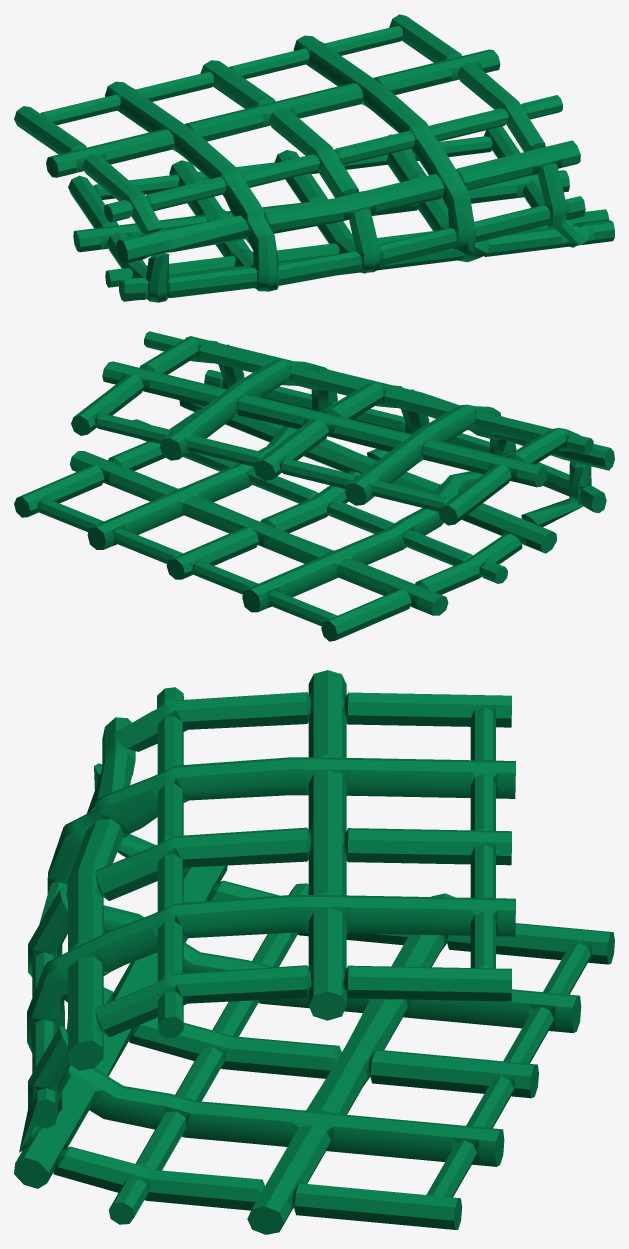
File: Gyomou.fbx
The picture shows the model from 3 angles, top to bottom: view 1: azimuth 30°, elevation 25°; view 2: azimuth 150°, elevation 25°; view 3: azimuth 270°, elevation 25°; orthographic projection. The views are drawn at different scales.
Visible parts, largest first — view 1: pCube1; view 2: pCube1; view 3: pCube1.
Boxes of the visible parts, left/top/right/bottom form: pCube1: left=14, top=14, right=614, bottom=302; pCube1: left=14, top=331, right=614, bottom=641; pCube1: left=14, top=670, right=614, bottom=1234.
Size of the model in its own units: 27.68 by 7.57 by 19.44.
